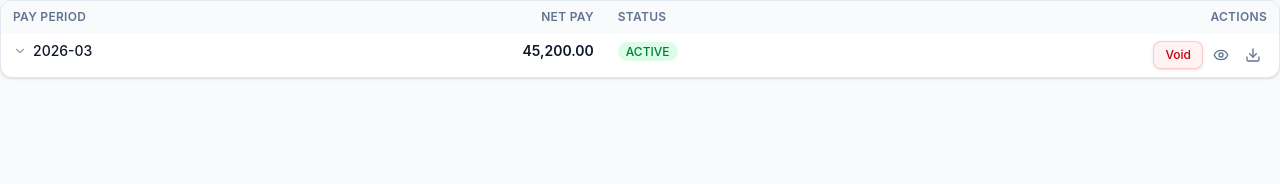
Test: SalarySlipList › surfaces an error message if voiding fails
The width and height of the screenshot is (1280, 184).
Click the button "Void". click: x=1178, y=55
box: x1=1154 y1=41 x2=1203 y2=69
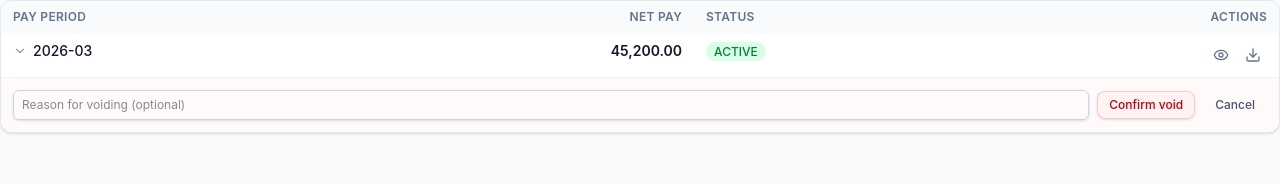
Click the button "Confirm void". click: x=1146, y=105
box: x1=1097 y1=91 x2=1195 y2=119
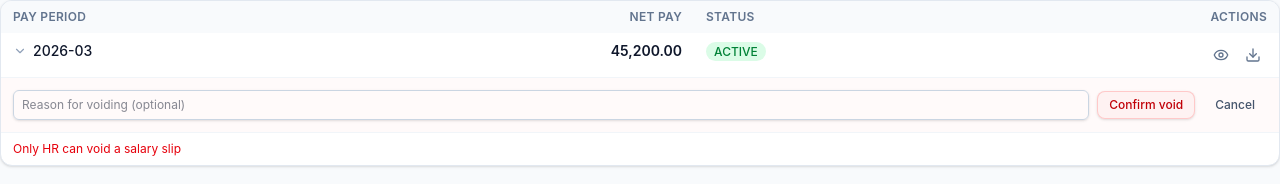
expect the message reads "Only HR can void a salary slip": met, box x1=13 y1=141 x2=181 y2=156
